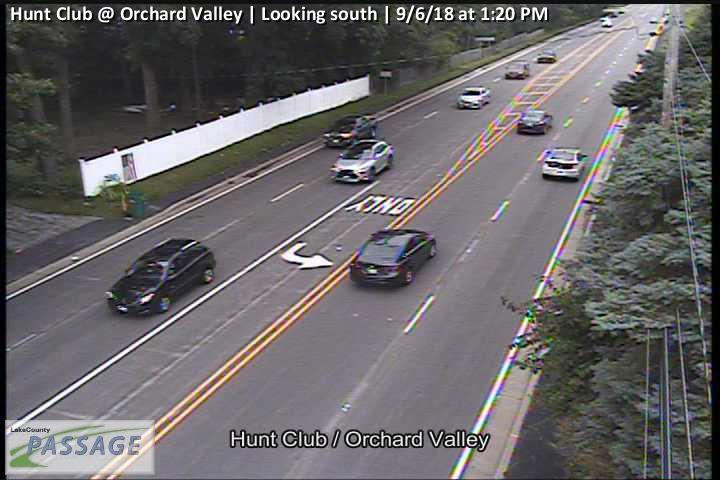SUV: (104, 238, 216, 317)
Sedan: (351, 228, 436, 286), (330, 139, 392, 186), (323, 112, 379, 145), (541, 148, 588, 180), (518, 111, 554, 136), (456, 85, 490, 110), (502, 61, 529, 80), (536, 49, 558, 63)
